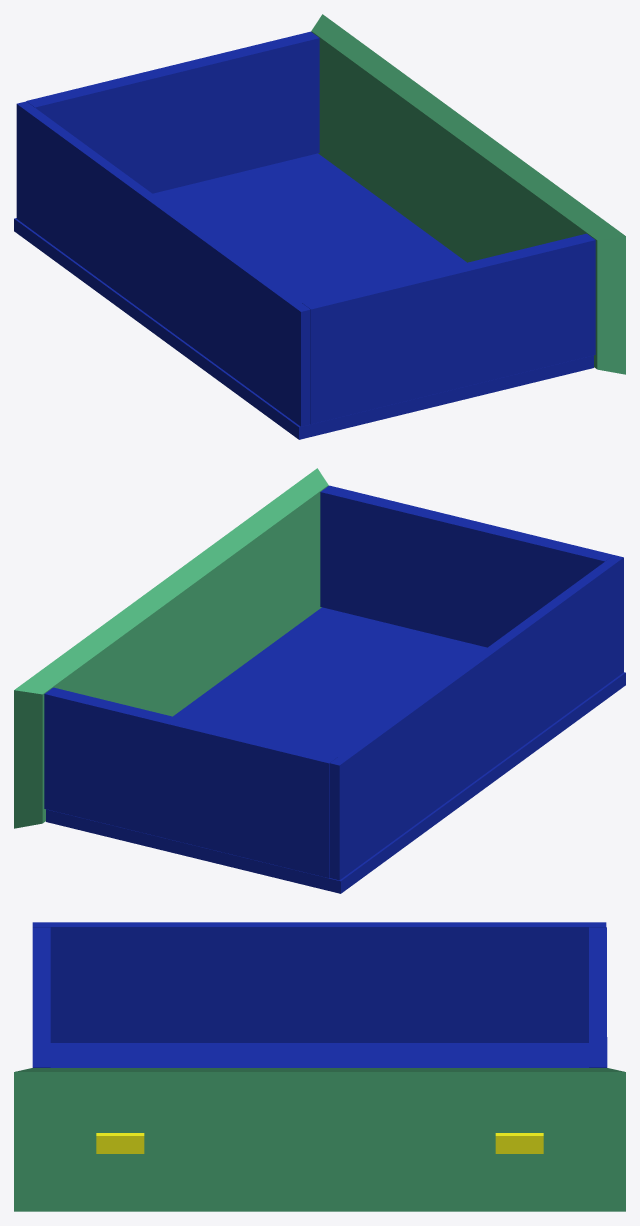
Rendered from Cajon_Inf.obj.
3 renders of one model, top to bottom at view 1: azimuth 30°, elevation 25°; view 2: azimuth 150°, elevation 25°; view 3: azimuth 270°, elevation 25°, orthographic.
Visible parts, largest first — view 1: polySurface59 polySurface119, polySurface59 polySurface129, polySurface59 polySurface105, polySurface59 polySurface97, polySurface59 polySurface132; view 2: polySurface59 polySurface119, polySurface59 polySurface129, polySurface59 polySurface132, polySurface59 polySurface97, polySurface59 polySurface105; view 3: polySurface59 polySurface129, polySurface59 polySurface119, polySurface59 polySurface97, polySurface59 polySurface105, polySurface59 polySurface132, polySurface112 polySurface59, polySurface59 polySurface106.
Part boxes in pixels (x1,y1,x2,y2): polySurface59 polySurface119: (16,101,310,426); polySurface59 polySurface129: (311,14,625,374); polySurface59 polySurface105: (302,233,595,424); polySurface59 polySurface97: (14,153,593,439); polySurface59 polySurface132: (26,31,319,193); polySurface59 polySurface119: (329,555,623,880); polySurface59 polySurface129: (14,468,328,828); polySurface59 polySurface132: (44,687,337,877); polySurface59 polySurface97: (46,607,625,893); polySurface59 polySurface105: (320,485,613,647); polySurface59 polySurface129: (14,1068,625,1211); polySurface59 polySurface119: (32,922,606,1042); polySurface59 polySurface97: (50,1037,607,1067); polySurface59 polySurface105: (32,927,50,1067); polySurface59 polySurface132: (589,927,606,1067); polySurface112 polySurface59: (495,1133,543,1153); polySurface59 polySurface106: (96,1133,144,1153).
Size of the model in its own units: 0.945 by 0.3861 by 1.53.
3 materials, 3 textured.
